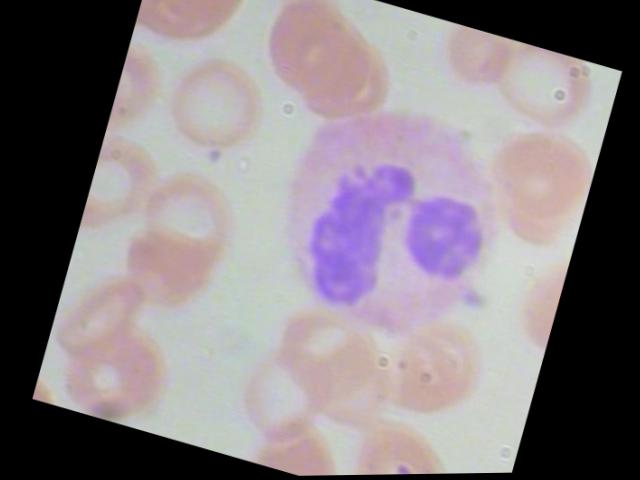Red Blood Cells: (468, 117, 603, 267), (150, 44, 277, 171), (48, 304, 173, 433), (121, 159, 246, 282), (476, 38, 599, 151), (330, 402, 463, 475), (134, 0, 258, 59), (426, 21, 511, 99)
White Blood Cells: (242, 64, 532, 361)
